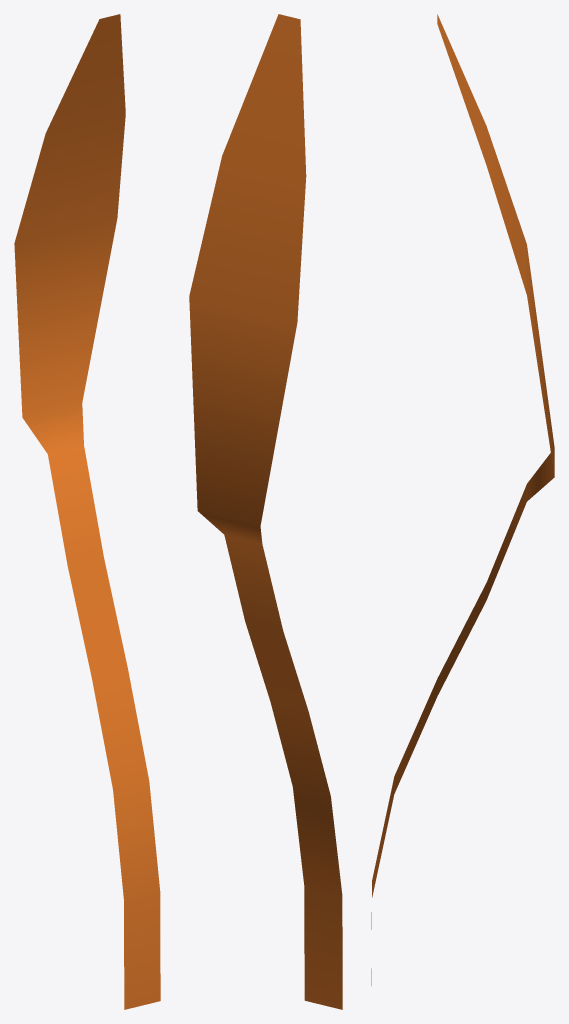
File: Fiber02_Tortula_muralis.fbx
The picture shows the model from 3 angles, left to right: view 1: azimuth 30°, elevation 25°; view 2: azimuth 150°, elevation 25°; view 3: azimuth 270°, elevation 25°; orthographic projection. The views are drawn at different scales.
Parts seen in each view (by area): view 1: Fiber02_Tortula_muralis; view 2: Fiber02_Tortula_muralis; view 3: Fiber02_Tortula_muralis.
Boxes of the visible parts, bbox=[...] form: Fiber02_Tortula_muralis: bbox=[14, 14, 160, 1009]; Fiber02_Tortula_muralis: bbox=[189, 14, 342, 1009]; Fiber02_Tortula_muralis: bbox=[371, 14, 554, 985].
Size of the model in its own units: 2.33 by 20.87 by 3.53.
